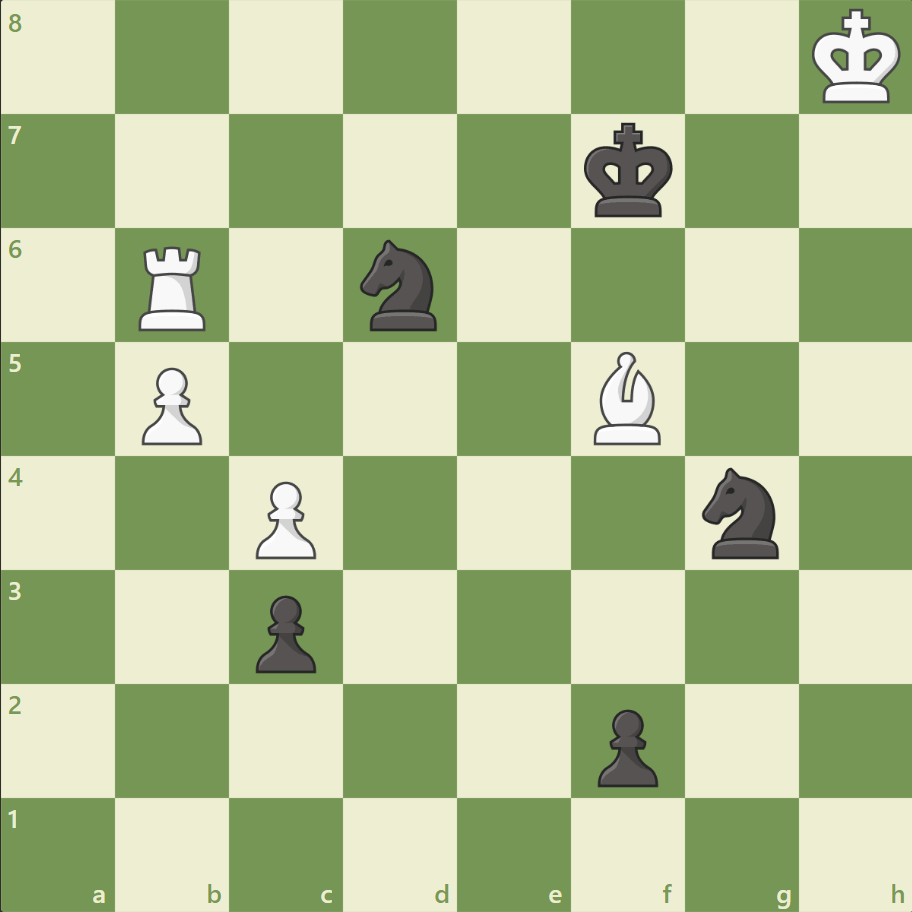B: (585, 347, 669, 449)
K: (806, 4, 906, 112)
P: (133, 359, 208, 450), (247, 473, 322, 564)
R: (133, 239, 215, 336)
k: (579, 117, 679, 225)
n: (351, 234, 449, 337), (692, 461, 789, 564)
p: (247, 586, 322, 677), (588, 700, 662, 791)
